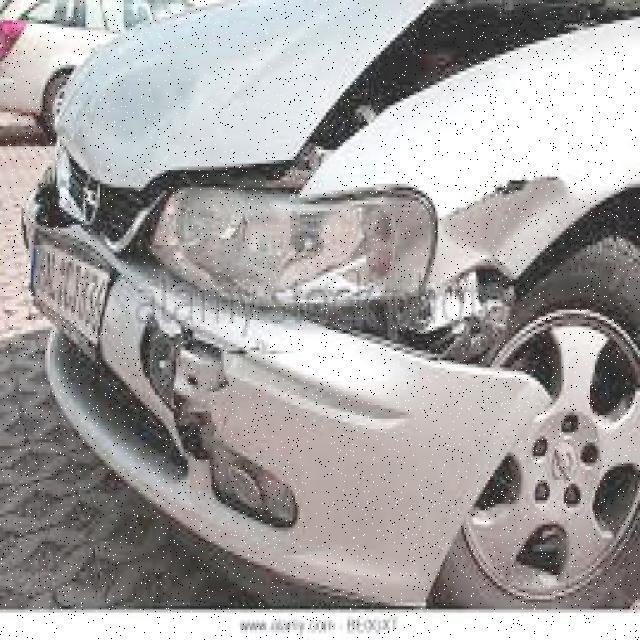car damage: (16, 6, 634, 540)
